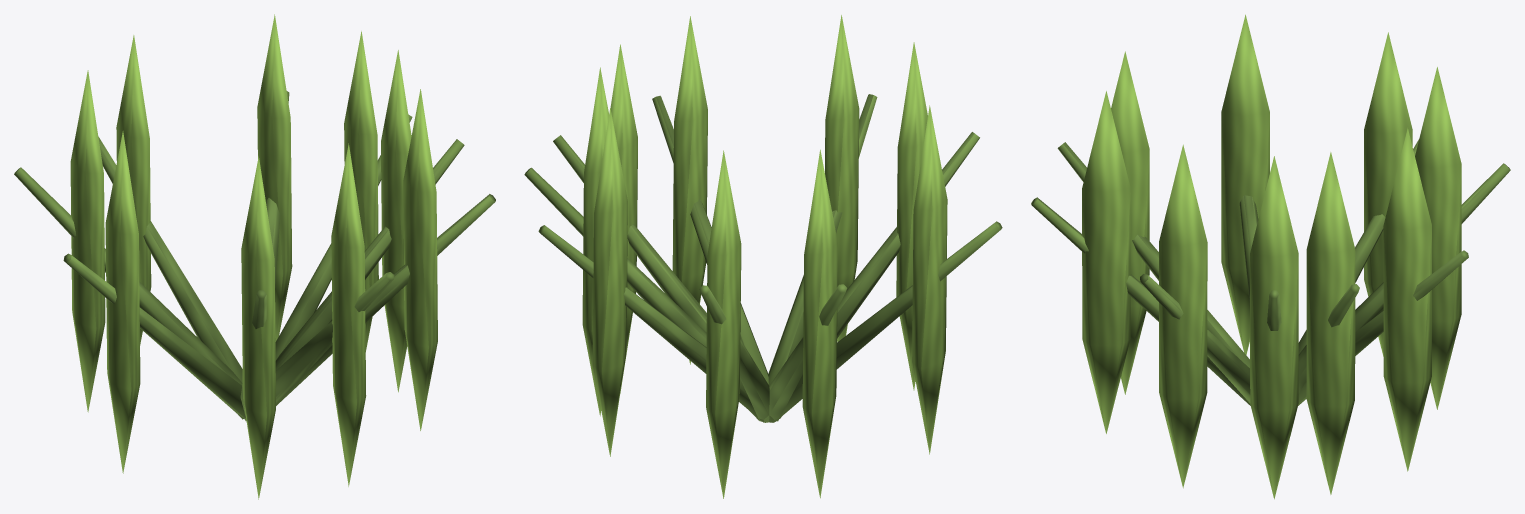
The model's file is grass_tuft.glb.
The picture shows the model from 3 angles, left to right: view 1: azimuth 30°, elevation 25°; view 2: azimuth 150°, elevation 25°; view 3: azimuth 270°, elevation 25°; orthographic projection.
Visible parts, largest first — view 1: grass_tuft.001; view 2: grass_tuft.001; view 3: grass_tuft.001.
Boxes of the visible parts, x1,y1,x2,y2 form: grass_tuft.001: [14, 14, 495, 499]; grass_tuft.001: [524, 15, 1002, 498]; grass_tuft.001: [1031, 14, 1510, 499].
Size of the model in its own units: 0.7648 by 0.6 by 0.7571.
1 material, 1 textured.
